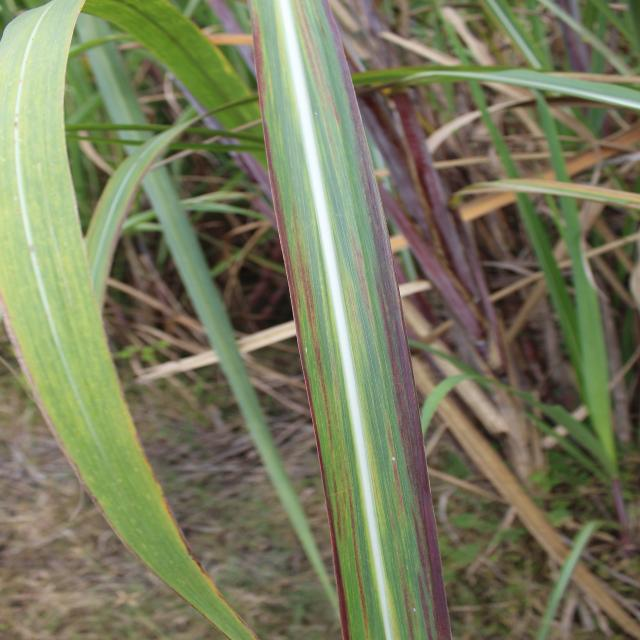Sugarcane: (0, 0, 261, 640), (231, 2, 452, 640), (378, 61, 640, 122)
